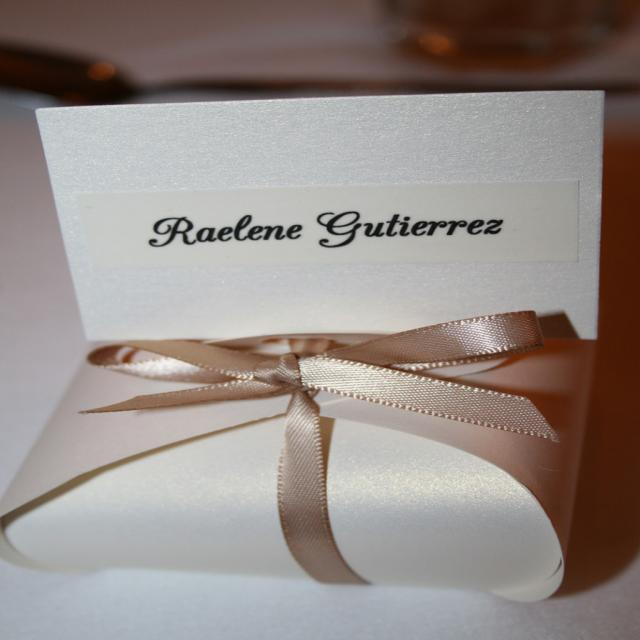Box: (0, 311, 597, 604)
